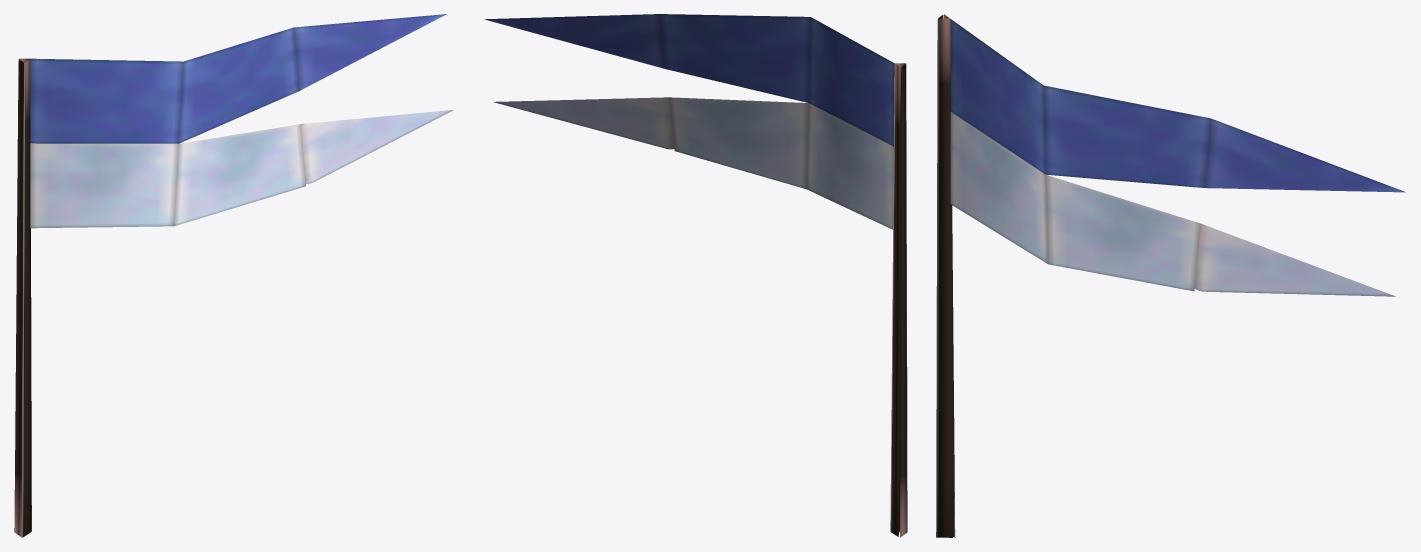
The picture shows the model from 3 angles, left to right: view 1: azimuth 30°, elevation 25°; view 2: azimuth 150°, elevation 25°; view 3: azimuth 330°, elevation 25°; orthographic projection. The views are drawn at different scales.
Visible parts, largest first — view 1: T1L3M009_23; view 2: T1L3M009_23; view 3: T1L3M009_23.
Boxes of the visible parts, <box> form: T1L3M009_23: <box>14,14,453,537</box>; T1L3M009_23: <box>484,14,907,537</box>; T1L3M009_23: <box>936,14,1405,537</box>.
Bounding box in the file's own units: 1.73 × 1.83 × 0.2752.
1 material, 1 textured.
